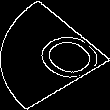O_SE: (8, 21, 102, 89)
